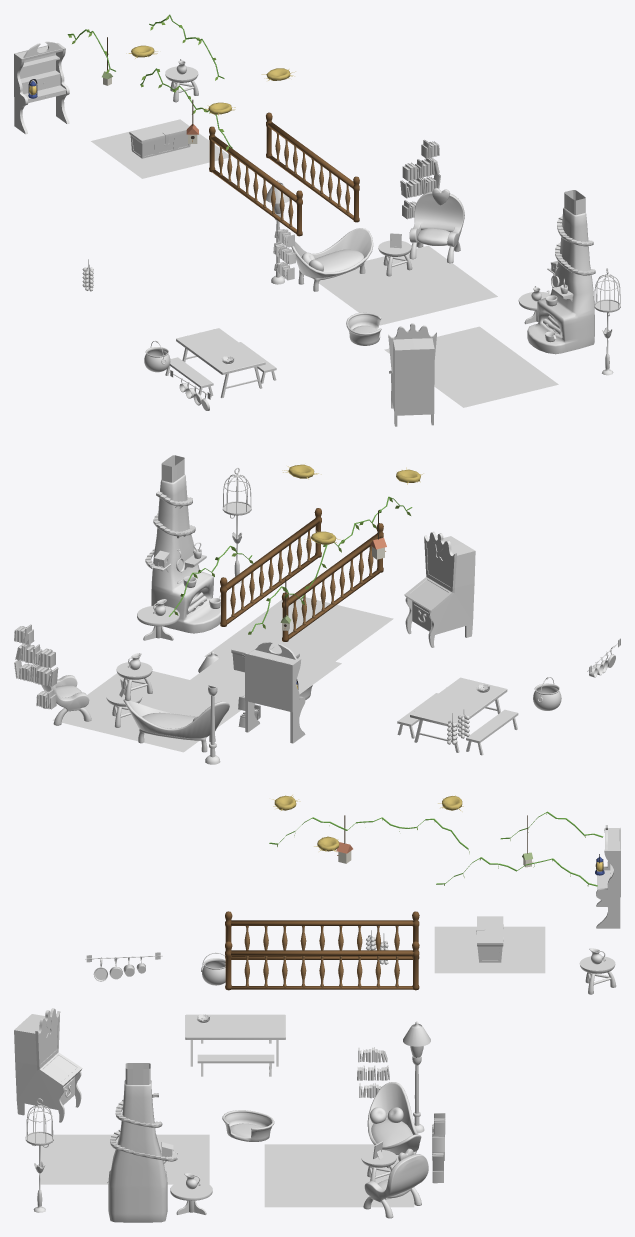
The model's file is cottage_props.glb.
The picture shows the model from 3 angles, top to bottom: view 1: azimuth 30°, elevation 25°; view 2: azimuth 150°, elevation 25°; view 3: azimuth 270°, elevation 25°; orthographic projection. The views are drawn at different scales.
Visible parts, largest first — view 1: Prop_Rug_Round, Prop_Rug_Rectangle, Prop_fc_furnace, Prop_fc_desk, Prop_fc_b_desk, Prop_fc_sofa_2, Prop_Rug_Round_loft, Prop_loft_rail_R, Prop_loft_rail_L, Prop_fc_k_table, Prop_fc_sofa_1, Prop_fc_b_chest (+10 smaller); view 2: Prop_fc_furnace, Prop_Rug_Round, Prop_fc_desk, Prop_Rug_Rectangle, Prop_fc_b_desk, Prop_loft_rail_R, Prop_loft_rail_L, Prop_fc_k_table, Prop_fc_sofa_1, Prop_Rug_Round_loft, Prop_fc_sofa_2, Prop_fc_bird_cage (+12 smaller); view 3: Prop_Rug_Round, Prop_fc_furnace, Prop_Rug_Rectangle, Prop_fc_desk, Prop_Rug_Round_loft, Prop_loft_rail_R, Prop_loft_rail_L, Prop_fc_k_table, Prop_fc_sofa_1, Prop_fc_sofa_2, Prop_fc_b_desk, Prop_fc_pet_bed (+10 smaller).
Boxes of the visible parts, left/top/right/bottom form: Prop_Rug_Round: left=312, top=245, right=497, bottom=325; Prop_Rug_Rectangle: left=384, top=326, right=558, bottom=407; Prop_fc_furnace: left=527, top=207, right=595, bottom=354; Prop_fc_desk: left=388, top=323, right=436, bottom=426; Prop_fc_b_desk: left=14, top=41, right=69, bottom=134; Prop_fc_sofa_2: left=409, top=188, right=464, bottom=263; Prop_Rug_Round_loft: left=91, top=119, right=231, bottom=178; Prop_loft_rail_R: left=266, top=112, right=359, bottom=222; Prop_loft_rail_L: left=209, top=126, right=302, bottom=236; Prop_fc_k_table: left=176, top=328, right=265, bottom=397; Prop_fc_sofa_1: left=291, top=228, right=373, bottom=291; Prop_fc_b_chest: left=129, top=119, right=190, bottom=158; Prop_fc_furnace: left=145, top=474, right=220, bottom=633; Prop_Rug_Round: left=52, top=671, right=244, bottom=752; Prop_fc_desk: left=404, top=531, right=475, bottom=647; Prop_Rug_Rectangle: left=204, top=594, right=393, bottom=661; Prop_fc_b_desk: left=245, top=642, right=305, bottom=743; Prop_loft_rail_R: left=220, top=508, right=321, bottom=626; Prop_loft_rail_L: left=282, top=523, right=383, bottom=641; Prop_fc_k_table: left=410, top=677, right=507, bottom=752; Prop_fc_sofa_1: left=123, top=699, right=229, bottom=752; Prop_Rug_Round_loft: left=189, top=639, right=341, bottom=694; Prop_fc_sofa_2: left=41, top=666, right=91, bottom=725; Prop_fc_bird_cage: left=222, top=467, right=251, bottom=583; Prop_Rug_Round: left=264, top=1144, right=414, bottom=1207; Prop_fc_furnace: left=108, top=1080, right=177, bottom=1222; Prop_Rug_Rectangle: left=40, top=1134, right=209, bottom=1184; Prop_fc_desk: left=14, top=1008, right=82, bottom=1122; Prop_Rug_Round_loft: left=434, top=926, right=545, bottom=973; Prop_loft_rail_R: left=225, top=941, right=419, bottom=990; Prop_loft_rail_L: left=225, top=911, right=419, bottom=959; Prop_fc_k_table: left=185, top=1014, right=285, bottom=1066; Prop_fc_sofa_1: left=367, top=1082, right=421, bottom=1168; Prop_fc_sofa_2: left=363, top=1148, right=428, bottom=1218; Prop_fc_b_desk: left=596, top=825, right=620, bottom=928; Prop_fc_pet_bed: left=222, top=1110, right=274, bottom=1141.
Bounding box in the file's own units: 9.32 × 5.49 × 11.29.
